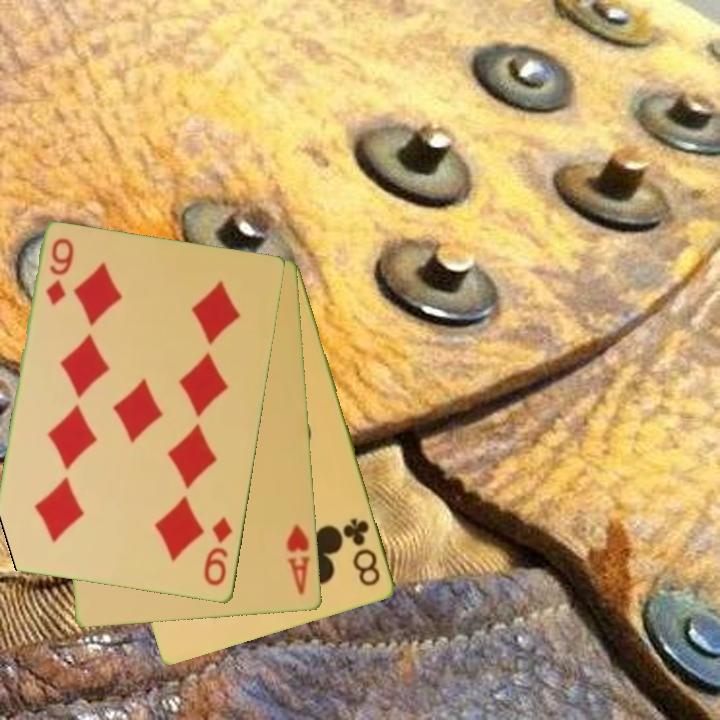8c: (340, 515, 384, 590)
9d: (200, 514, 237, 589), (43, 235, 77, 308)
Ah: (283, 521, 313, 598)
